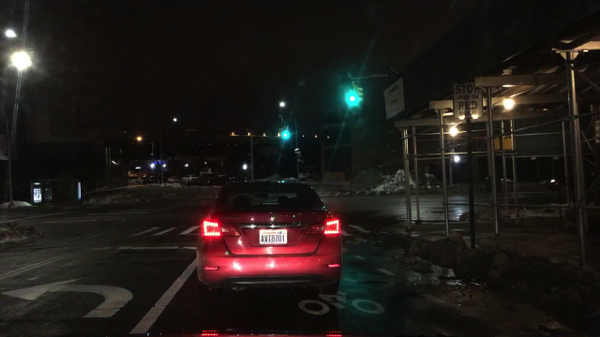car: (196, 179, 341, 296), (544, 169, 599, 192), (142, 176, 162, 186), (187, 178, 213, 185), (182, 174, 198, 183), (167, 175, 180, 183), (128, 169, 139, 178)
traffic light: (356, 88, 364, 105), (348, 86, 355, 105), (241, 162, 251, 171), (283, 130, 289, 140)
traffic sign: (453, 82, 483, 121), (384, 77, 405, 122), (293, 147, 299, 153)
truck: (199, 168, 214, 176)
